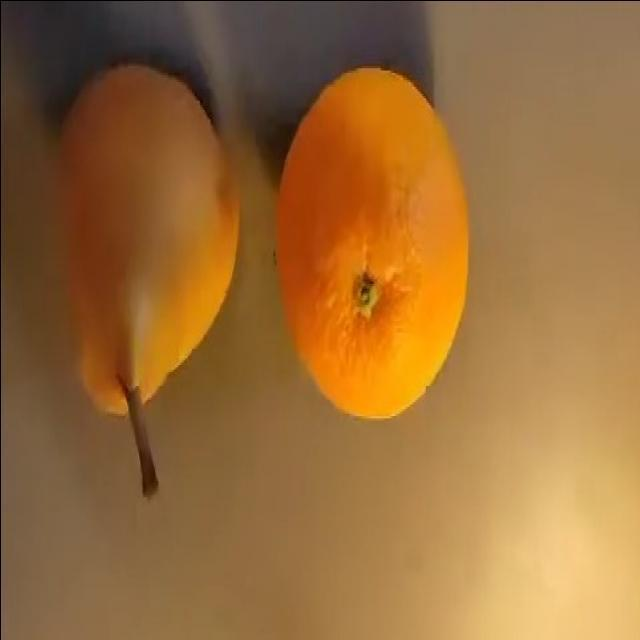Orange: (274, 65, 470, 420)
